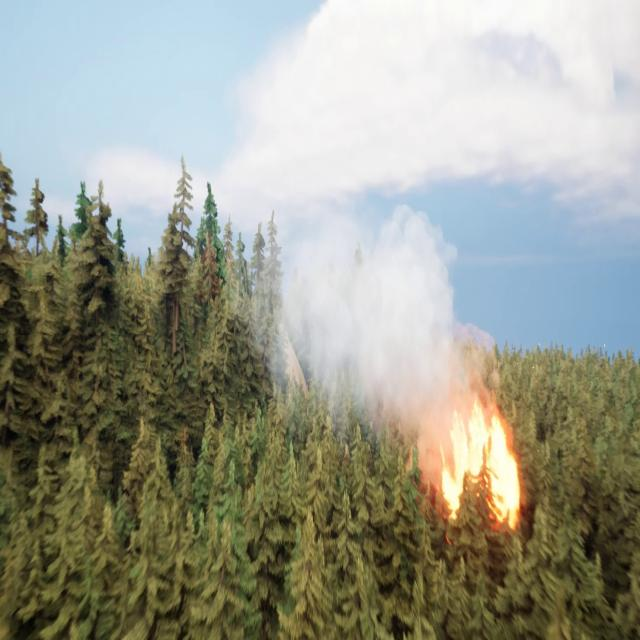fire: (438, 390, 525, 532)
smoke: (253, 193, 481, 459)
